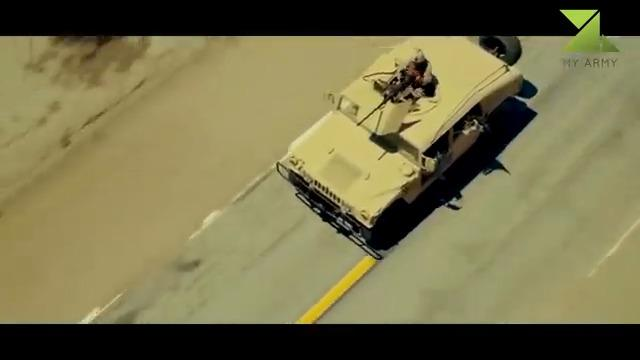MIL_HMMWV: (276, 35, 525, 260)
